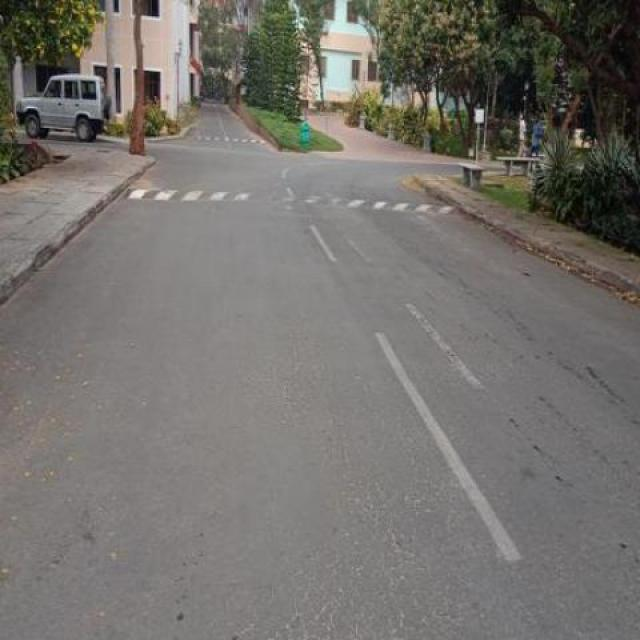Speed Bump: (122, 180, 456, 223)
